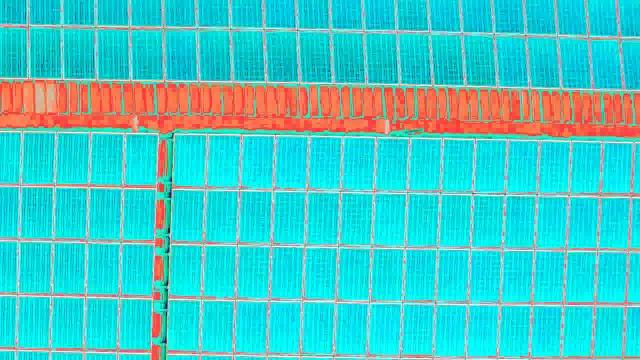dirty: (600, 141, 640, 197), (566, 140, 606, 196), (533, 141, 573, 197), (499, 139, 539, 195), (467, 137, 507, 193), (437, 140, 477, 196), (403, 136, 443, 192), (372, 139, 412, 195), (338, 135, 378, 191), (304, 135, 344, 191), (270, 136, 310, 192), (234, 133, 274, 189), (202, 134, 242, 190), (167, 132, 207, 188), (122, 132, 162, 188), (84, 133, 124, 189), (52, 131, 92, 187), (15, 133, 55, 189), (15, 189, 55, 245), (48, 189, 88, 245), (85, 187, 125, 243), (122, 185, 162, 241), (164, 190, 204, 246), (201, 189, 241, 245), (234, 191, 274, 247), (265, 192, 305, 248), (301, 190, 341, 246), (333, 193, 373, 249), (368, 195, 408, 251), (402, 194, 442, 250), (428, 192, 468, 248), (468, 195, 508, 251), (496, 195, 536, 251), (525, 196, 565, 252), (563, 193, 603, 249), (597, 194, 637, 250), (592, 251, 632, 307), (561, 249, 601, 305), (529, 250, 569, 306), (25, 24, 64, 80), (56, 25, 95, 81), (89, 24, 128, 80), (126, 24, 165, 80), (160, 26, 199, 82), (194, 27, 233, 83), (225, 25, 264, 81), (266, 29, 305, 85), (291, 29, 330, 85), (329, 27, 368, 83), (362, 29, 401, 85), (392, 29, 431, 85), (428, 33, 467, 89), (460, 31, 499, 87), (490, 35, 529, 91), (526, 32, 565, 88), (553, 33, 592, 89), (586, 33, 625, 89), (502, 253, 541, 309), (462, 252, 501, 308), (398, 248, 437, 304), (436, 249, 475, 305), (369, 248, 408, 304), (332, 248, 371, 304), (302, 245, 341, 301), (265, 245, 304, 301), (232, 246, 271, 302), (199, 244, 238, 300), (168, 245, 207, 301), (117, 242, 156, 298), (81, 242, 120, 298), (79, 240, 118, 296), (48, 243, 87, 299), (15, 239, 54, 295), (17, 295, 56, 351), (47, 293, 86, 349), (85, 294, 124, 350), (117, 297, 156, 353), (165, 298, 200, 352), (202, 298, 237, 352), (234, 300, 269, 354), (263, 301, 298, 355), (305, 299, 340, 353), (335, 299, 370, 353), (366, 304, 401, 358), (400, 302, 435, 356), (434, 306, 469, 360), (468, 303, 503, 357), (497, 301, 532, 355), (525, 303, 560, 357), (561, 302, 596, 356), (592, 305, 627, 359)
